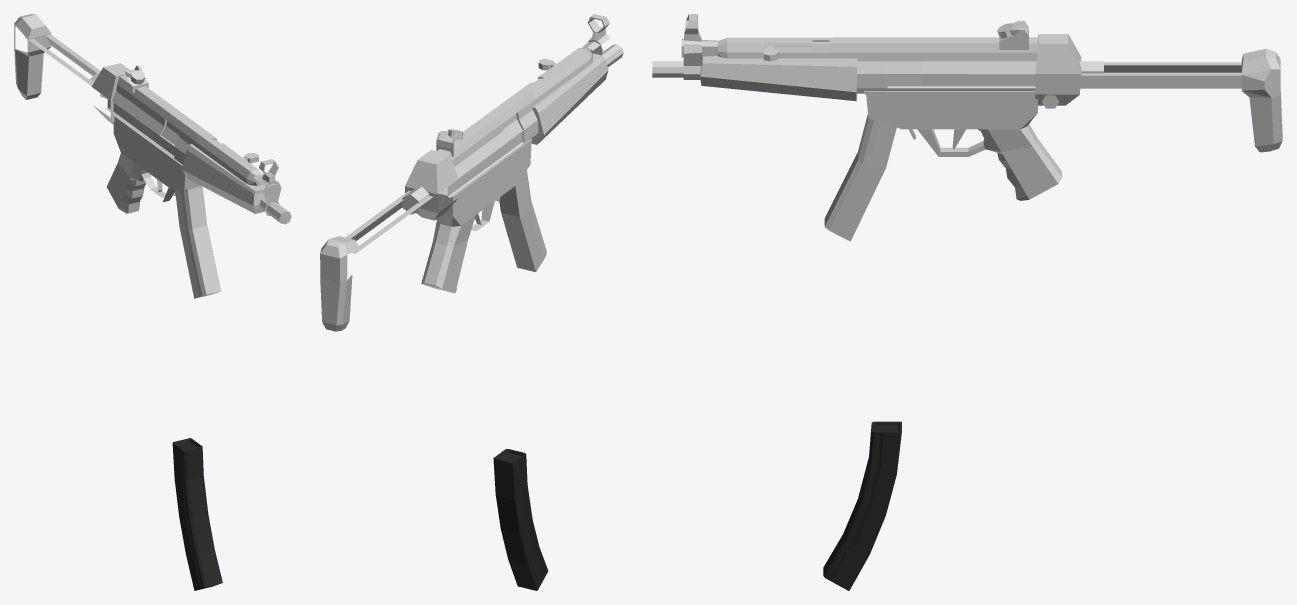
The model's file is Mp5_Gun.glb.
The picture shows the model from 3 angles, left to right: view 1: azimuth 30°, elevation 25°; view 2: azimuth 150°, elevation 25°; view 3: azimuth 270°, elevation 25°; orthographic projection. The views are drawn at different scales.
Parts seen in each view (by area): view 1: Mp5LowPoly, Mp5Mag; view 2: Mp5LowPoly, Mp5Mag; view 3: Mp5LowPoly, Mp5Mag.
Boxes of the visible parts, bbox=[...] form: Mp5LowPoly: bbox=[14, 14, 291, 298]; Mp5Mag: bbox=[172, 438, 222, 590]; Mp5LowPoly: bbox=[320, 14, 623, 331]; Mp5Mag: bbox=[493, 449, 548, 590]; Mp5LowPoly: bbox=[652, 14, 1282, 241]; Mp5Mag: bbox=[823, 421, 901, 590].
Bounding box in the file's own units: 0.0696 × 0.7834 × 0.7866.
2 materials, 1 textured.
